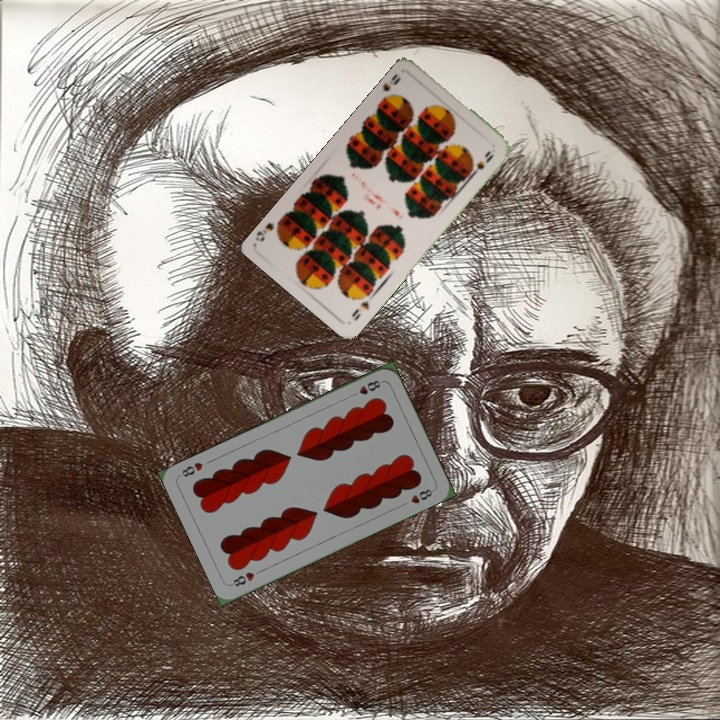H8: (346, 376, 385, 400), (227, 568, 257, 589)
S9: (347, 290, 377, 324), (378, 73, 403, 103)
